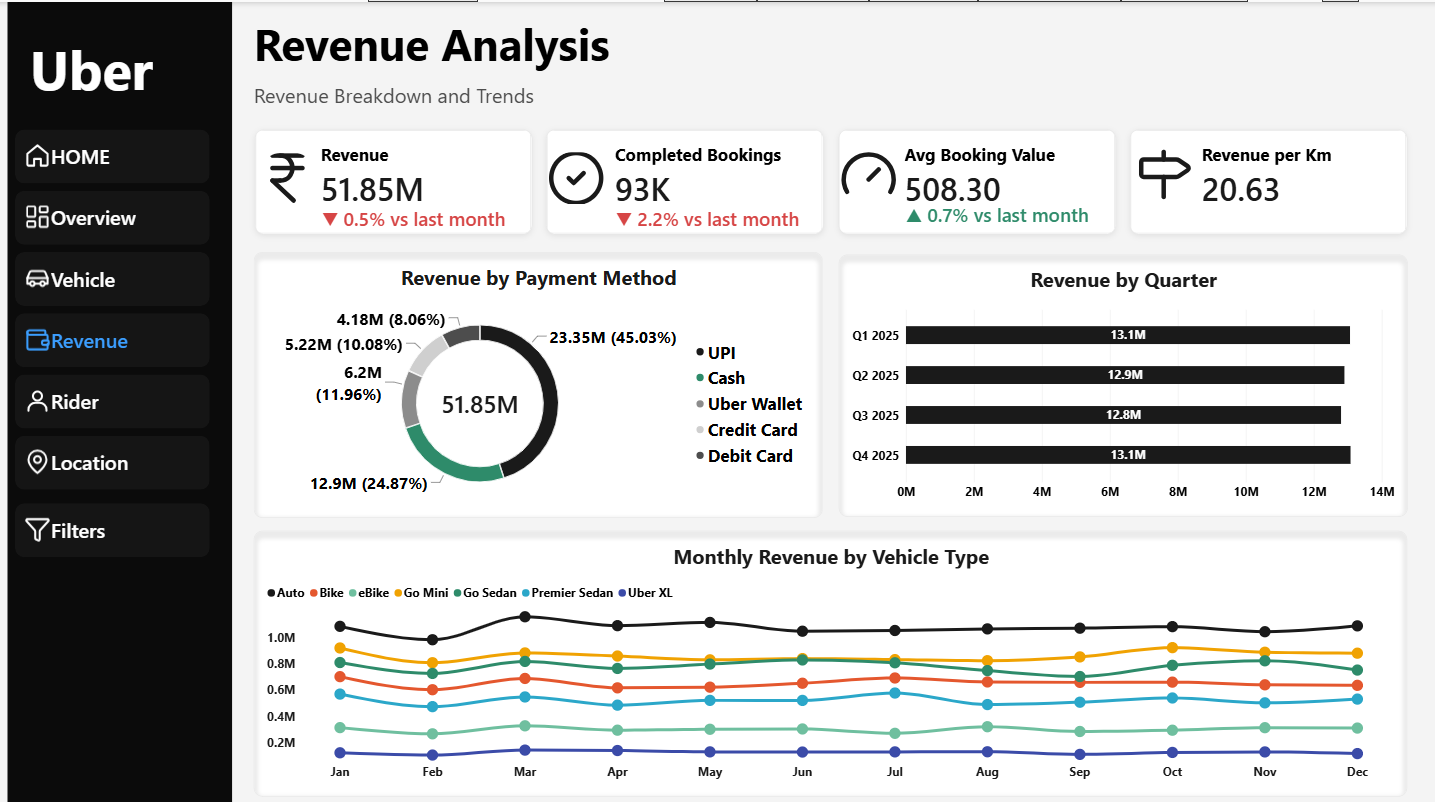

The dashboard page shown, as its layout file describes it:
{"tool":"powerbi","page":{"name":"Revenue","canvas":[1920,1080],"ordinal":3},"visuals":[{"type":"shape","box":[10,0,300,1080],"z":0},{"type":"textbox","box":[40,40,305.1,162.3],"z":2000},{"type":"actionButton","box":[20,170,260,72],"z":3000},{"type":"actionButton","box":[20,252,260,72],"z":4000},{"type":"actionButton","box":[20,334,260,72],"z":6000},{"type":"actionButton","box":[20,416,260,72],"z":7000},{"type":"actionButton","box":[20,498,260,72],"z":8000},{"type":"actionButton","box":[20,580,260,72],"z":9000},{"type":"textbox","box":[339.8,15.1,499.9,132],"z":10000},{"type":"textbox","box":[339.8,82.2,560.5,99.6],"z":11000},{"type":"cardVisual","fields":{"Data":["ALL_Measures.Revenue"]},"box":[340,170,370,140],"z":12000},{"type":"cardVisual","fields":{"Data":["ALL_Measures.Revenue MoM %"]},"box":[413.4,233.7,279.2,108.2],"z":13000},{"type":"image","box":[344.1,190,80,80],"z":14000},{"type":"cardVisual","fields":{"Data":["ALL_Measures.Completed Bookings"]},"box":[730,170,370,140],"z":15000},{"type":"cardVisual","fields":{"Data":["ALL_Measures.Lost MoM %"]},"box":[807.2,233.7,279.2,108.2],"z":16000},{"type":"image","box":[730,190,80,80],"z":17000},{"type":"cardVisual","fields":{"Data":["ALL_Measures.Avg Booking Value"]},"box":[1120,170,370,140],"z":18000},{"type":"cardVisual","fields":{"Data":["ALL_Measures.Avg Booking MoM %"]},"box":[1194.6,229.4,279.2,108.2],"z":19000},{"type":"image","box":[1120,190.4,80,80],"z":20000},{"type":"cardVisual","fields":{"Data":["ALL_Measures.Revenue per Km"]},"box":[1510,170,370,140],"z":21000},{"type":"image","box":[1514.1,190,80,80],"z":22000},{"type":"lineChart","title":"Monthly Revenue by Vehicle Type","fields":{"Category":["Calendar.Month"],"Series":["Bookings.Vehicle Type"],"Y":["ALL_Measures.Revenue"]},"box":[339.8,705.5,1540.9,354.9],"z":23000},{"type":"actionButton","title":"Btn_filter","box":[19.9,669.6,260,72],"z":24000},{"type":"donutChart","fields":{"Category":["Bookings.Payment Method"],"Y":["ALL_Measures.Revenue"]},"box":[339.8,333.3,759.6,354.9],"z":28000},{"type":"barChart","fields":{"Category":["Calendar.Quarter"],"Y":["ALL_Measures.Revenue"]},"box":[1121,337.6,759.6,350.6],"z":29000}]}

Visuals, with their boxes on the page's 1920x1080 design canvas (x1, y1, x2, y2). These are canvas units, not pixel positions in the 1435x802 screenshot, which may show the page scaled, cropped or inside an application window:
shape: (x1=10, y1=0, x2=310, y2=1080)
textbox: (x1=40, y1=40, x2=345, y2=202)
actionButton: (x1=20, y1=170, x2=280, y2=242)
actionButton: (x1=20, y1=252, x2=280, y2=324)
actionButton: (x1=20, y1=334, x2=280, y2=406)
actionButton: (x1=20, y1=416, x2=280, y2=488)
actionButton: (x1=20, y1=498, x2=280, y2=570)
actionButton: (x1=20, y1=580, x2=280, y2=652)
textbox: (x1=340, y1=15, x2=840, y2=147)
textbox: (x1=340, y1=82, x2=900, y2=182)
cardVisual - ALL_Measures.Revenue: (x1=340, y1=170, x2=710, y2=310)
cardVisual - ALL_Measures.Revenue MoM %: (x1=413, y1=234, x2=693, y2=342)
image: (x1=344, y1=190, x2=424, y2=270)
cardVisual - ALL_Measures.Completed Bookings: (x1=730, y1=170, x2=1100, y2=310)
cardVisual - ALL_Measures.Lost MoM %: (x1=807, y1=234, x2=1086, y2=342)
image: (x1=730, y1=190, x2=810, y2=270)
cardVisual - ALL_Measures.Avg Booking Value: (x1=1120, y1=170, x2=1490, y2=310)
cardVisual - ALL_Measures.Avg Booking MoM %: (x1=1195, y1=229, x2=1474, y2=338)
image: (x1=1120, y1=190, x2=1200, y2=270)
cardVisual - ALL_Measures.Revenue per Km: (x1=1510, y1=170, x2=1880, y2=310)
image: (x1=1514, y1=190, x2=1594, y2=270)
"Monthly Revenue by Vehicle Type" lineChart: (x1=340, y1=706, x2=1881, y2=1060)
"Btn_filter" actionButton: (x1=20, y1=670, x2=280, y2=742)
donutChart - Bookings.Payment Method x ALL_Measures.Revenue: (x1=340, y1=333, x2=1099, y2=688)
barChart - Calendar.Quarter x ALL_Measures.Revenue: (x1=1121, y1=338, x2=1881, y2=688)
